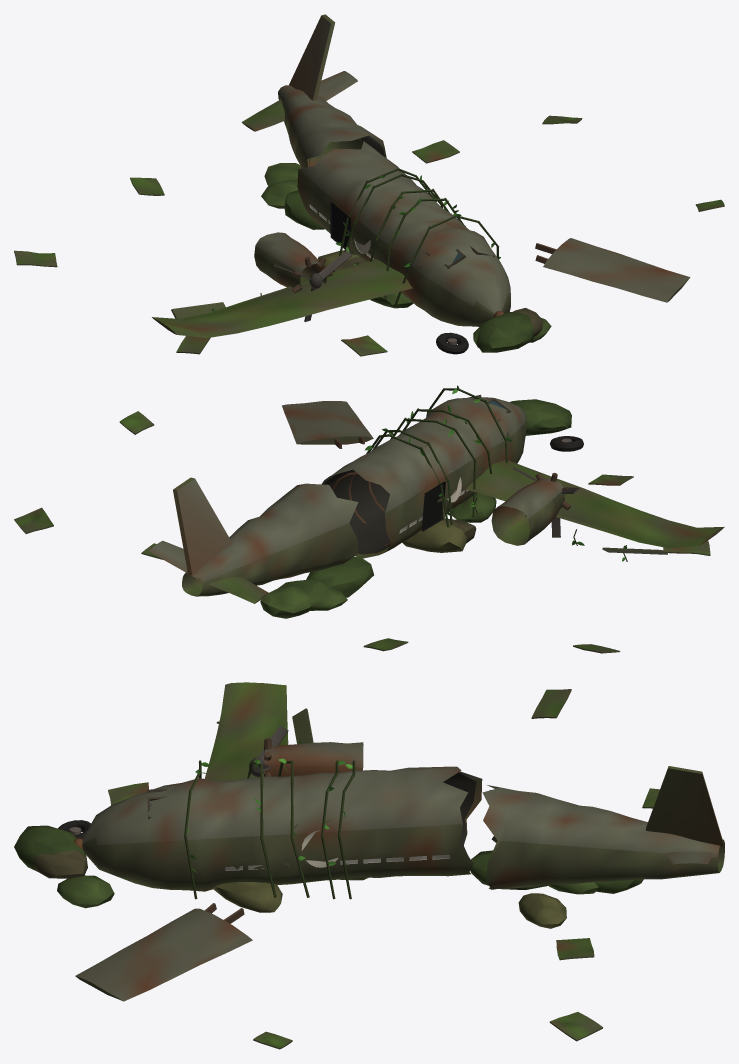
File: wreck.glb
3 renders of one model, top to bottom at view 1: azimuth 30°, elevation 25°; view 2: azimuth 150°, elevation 25°; view 3: azimuth 270°, elevation 25°, orthographic. The views are drawn at different scales.
Visible parts, largest first — view 1: Body.001; view 2: Body.001; view 3: Body.001.
Part boxes in pixels (box(x1,y1,x2,y2)): Body.001: box(14, 14, 724, 356); Body.001: box(14, 385, 724, 653); Body.001: box(14, 682, 724, 1049).
Bounding box in the file's own units: 17.2 × 3.77 × 14.47.
